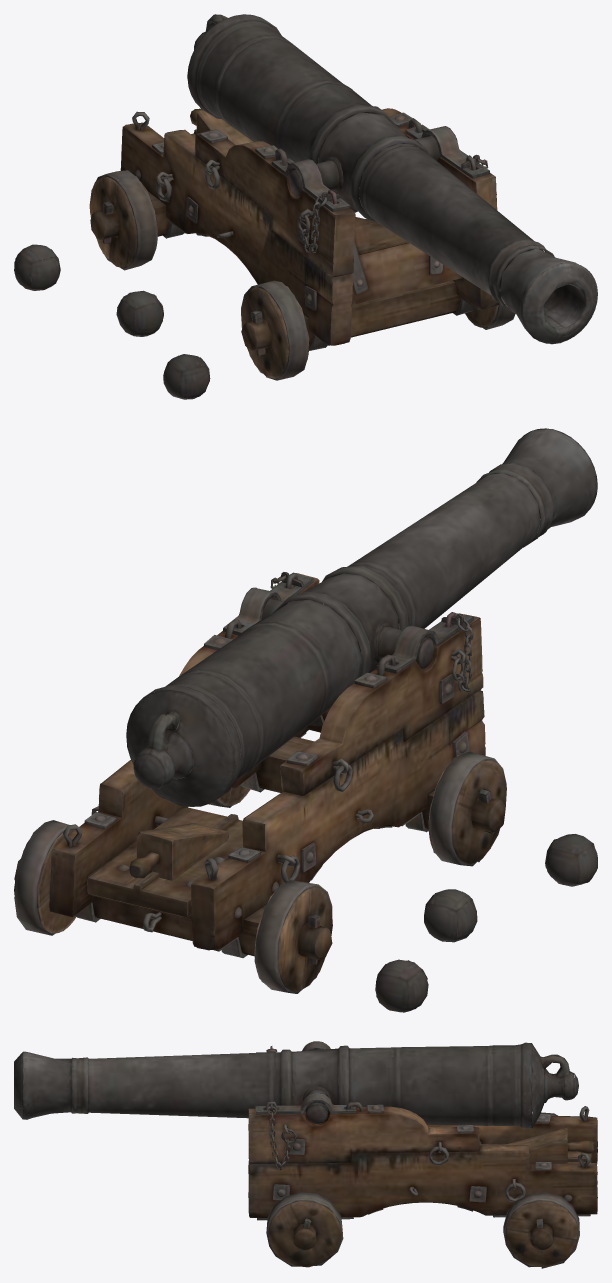
Rendered from ph_cannon_01.glb.
3 renders of one model, top to bottom at view 1: azimuth 30°, elevation 25°; view 2: azimuth 150°, elevation 25°; view 3: azimuth 270°, elevation 25°, orthographic. The views are drawn at different scales.
Parts seen in each view (by area): view 1: cannon_01_frame; view 2: cannon_01_frame; view 3: cannon_01_frame.
Part boxes in pixels (x1=…): cannon_01_frame: x1=14, y1=14, x2=597, y2=399; cannon_01_frame: x1=14, y1=428, x2=597, y2=1012; cannon_01_frame: x1=14, y1=1041, x2=597, y2=1268.
Bounding box in the file's own units: 1.23 × 0.7762 × 2.3.
Materials: 1 (1 with a texture image).
